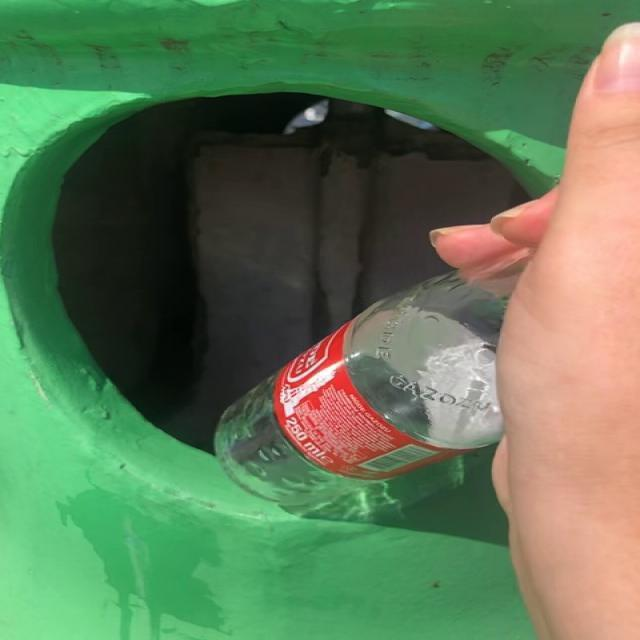Glass: (215, 273, 507, 522)
